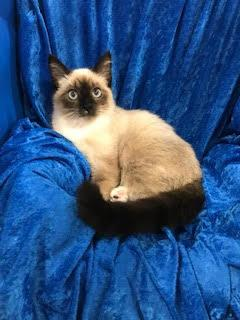siamese: (45, 51, 122, 128)
